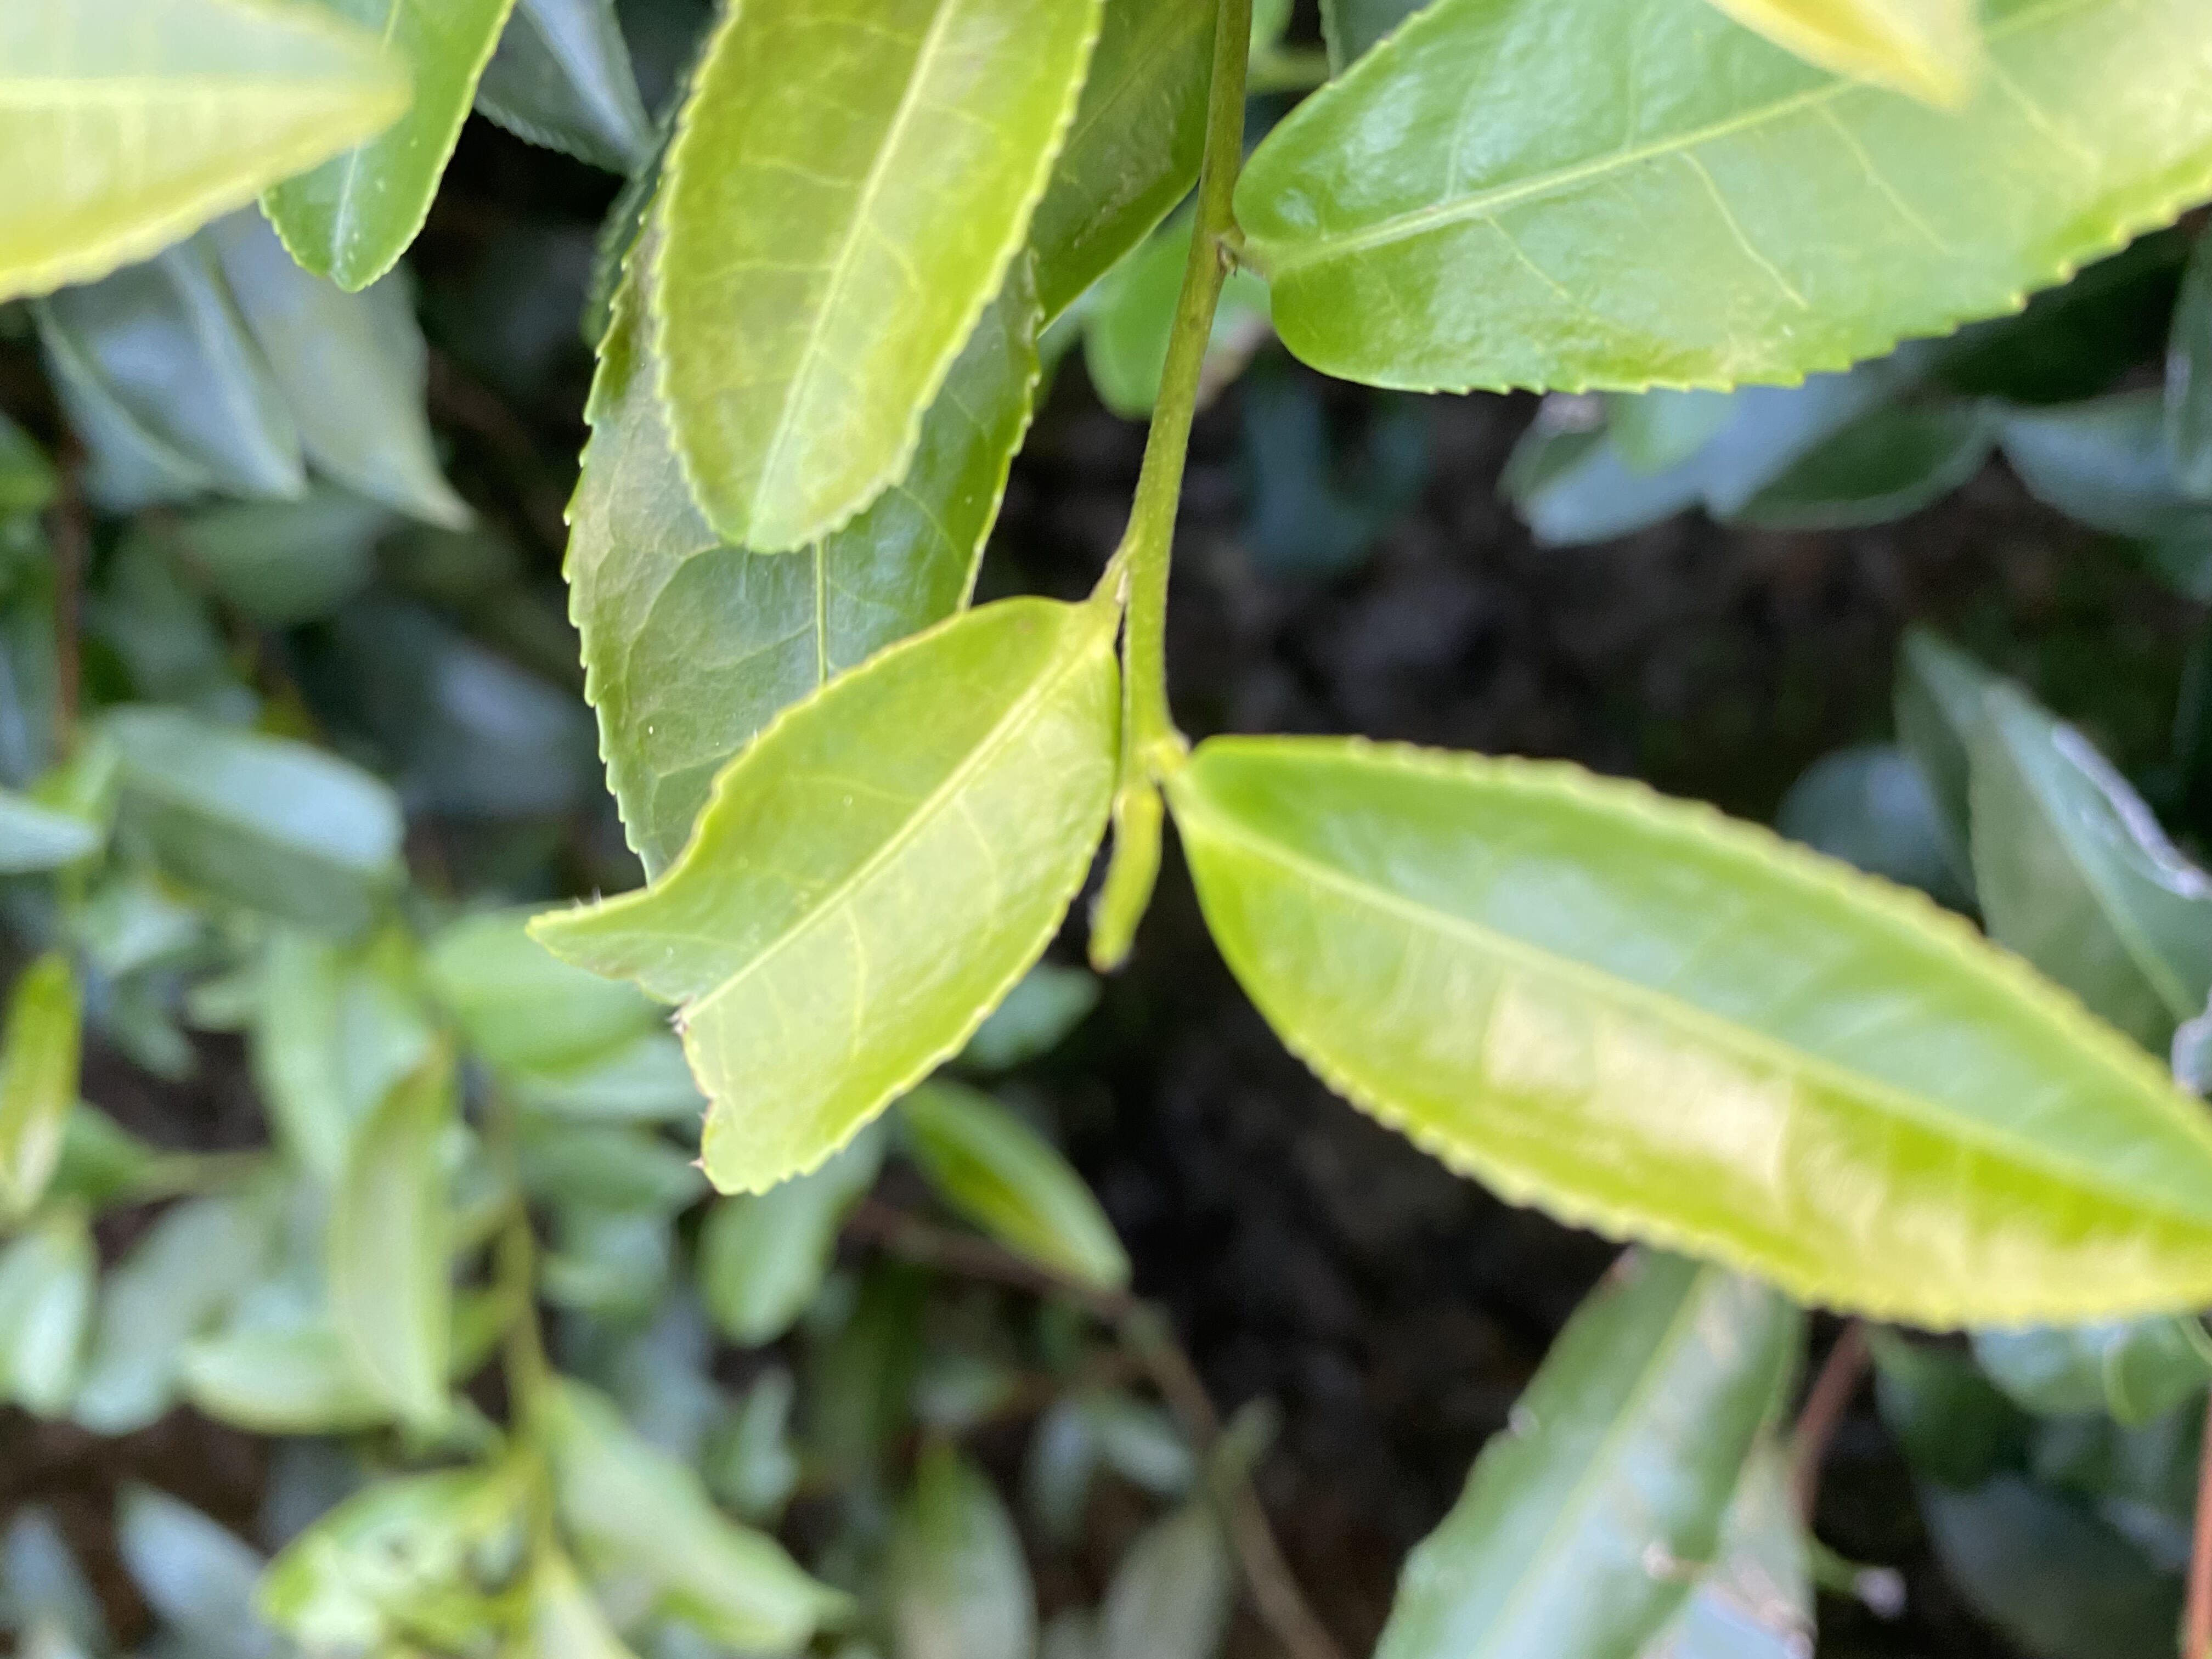chihuo_high: (521, 596, 1122, 1201)
healthy: (1176, 728, 2207, 1338), (650, 3, 1106, 556)
